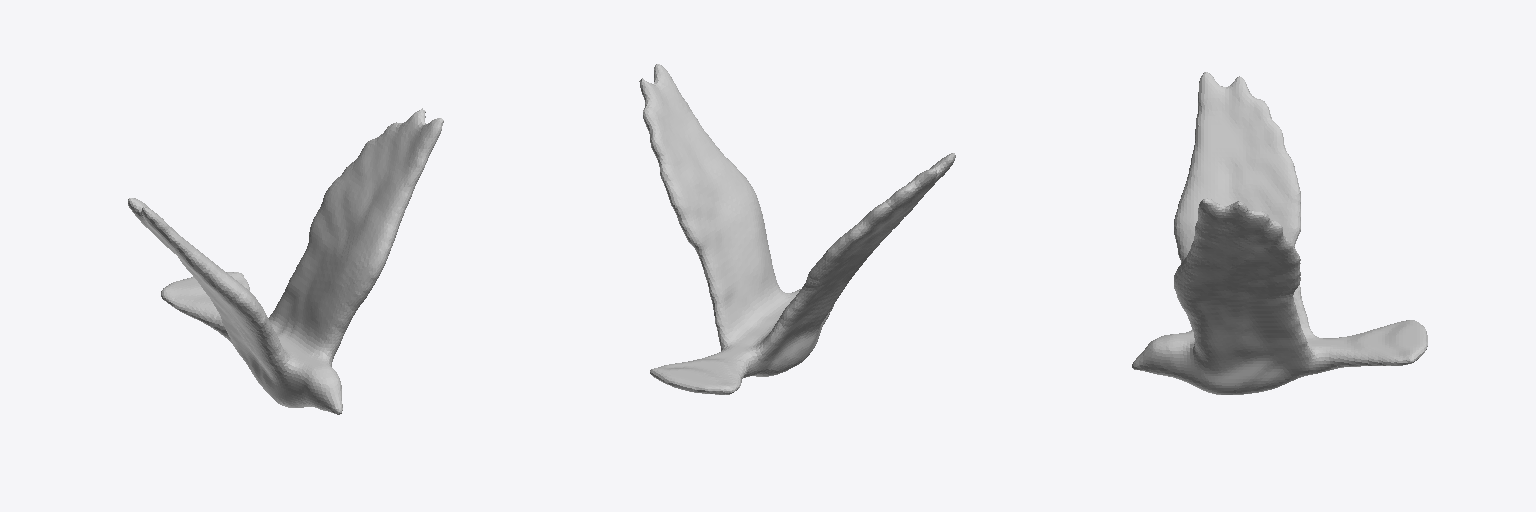
The model's file is bird_m.obj.
3 views of the same model, side by side, from view 1: azimuth 30°, elevation 25°; view 2: azimuth 150°, elevation 25°; view 3: azimuth 270°, elevation 25° (orthographic).
Parts seen in each view (by area): view 1: Object__0; view 2: Object__0; view 3: Object__0.
Part boxes in pixels (x1,y1,x2,y2): Object__0: (128,108,443,414); Object__0: (639,64,955,394); Object__0: (1132,72,1427,394).
Bounding box in the file's own units: 1.45 × 1.19 × 1.24.